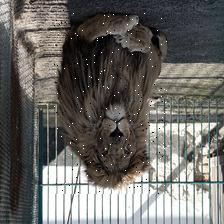Lion: (52, 10, 166, 194)
